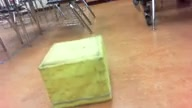cube: (37, 34, 112, 108)
